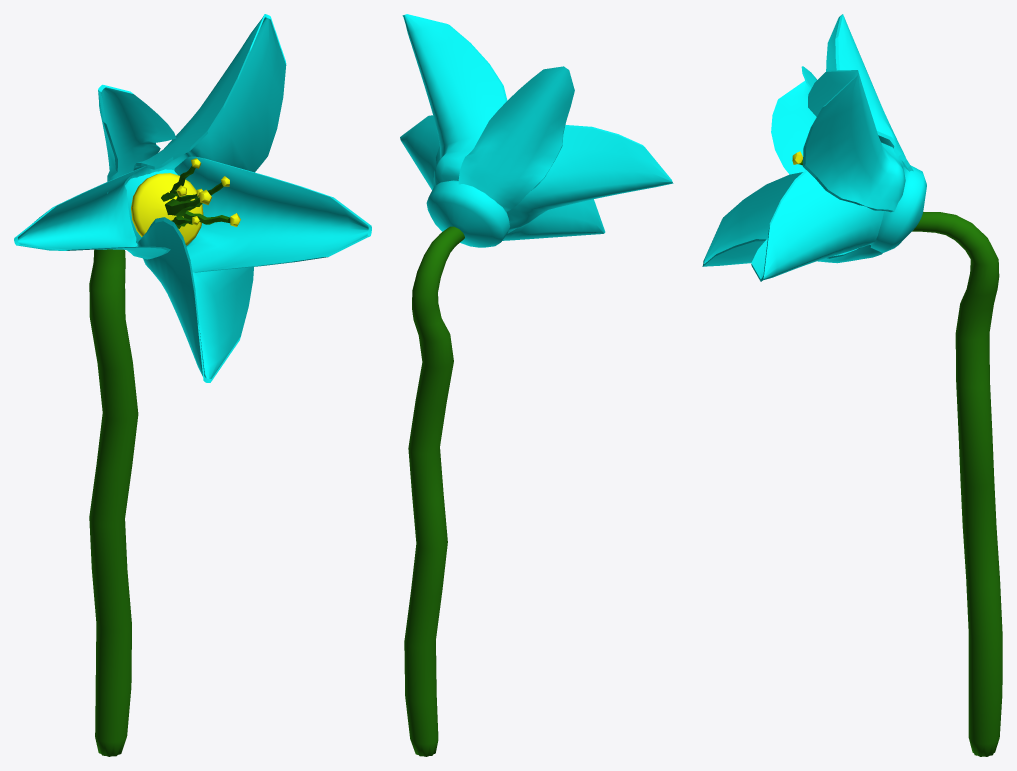
The model's file is Flower1.obj.
The picture shows the model from 3 angles, left to right: view 1: azimuth 30°, elevation 25°; view 2: azimuth 150°, elevation 25°; view 3: azimuth 270°, elevation 25°; orthographic projection. The views are drawn at different scales.
Parts seen in each view (by area): view 1: Stem2; view 2: Stem2; view 3: Stem2.
Part boxes in pixels (x1=…): Stem2: x1=14, y1=14, x2=371, y2=756; Stem2: x1=400, y1=14, x2=673, y2=756; Stem2: x1=702, y1=14, x2=1002, y2=756.
Bounding box in the file's own units: 1.19 × 2.61 × 0.9825.
